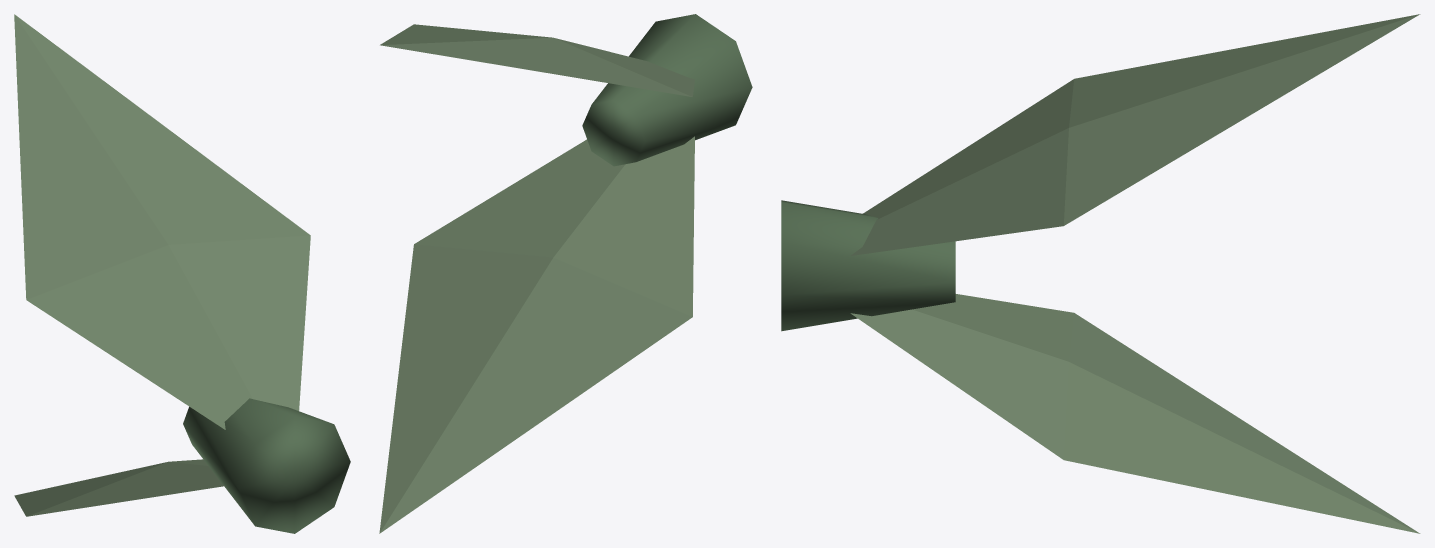
The model's file is fish_tail.meshopt.glb.
The picture shows the model from 3 angles, left to right: view 1: azimuth 30°, elevation 25°; view 2: azimuth 150°, elevation 25°; view 3: azimuth 270°, elevation 25°; orthographic projection. The views are drawn at different scales.
Visible parts, largest first — view 1: fish_tail; view 2: fish_tail; view 3: fish_tail.
Boxes of the visible parts, box(x1,y1,x2,y2) form: fish_tail: box(14, 14, 350, 533); fish_tail: box(379, 14, 752, 533); fish_tail: box(781, 14, 1420, 533).
Bounding box in the file's own units: 0.09 × 0.148 × 0.165.
